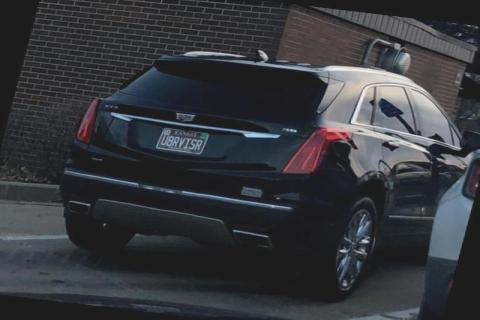LicensePlate: (152, 125, 207, 154)
